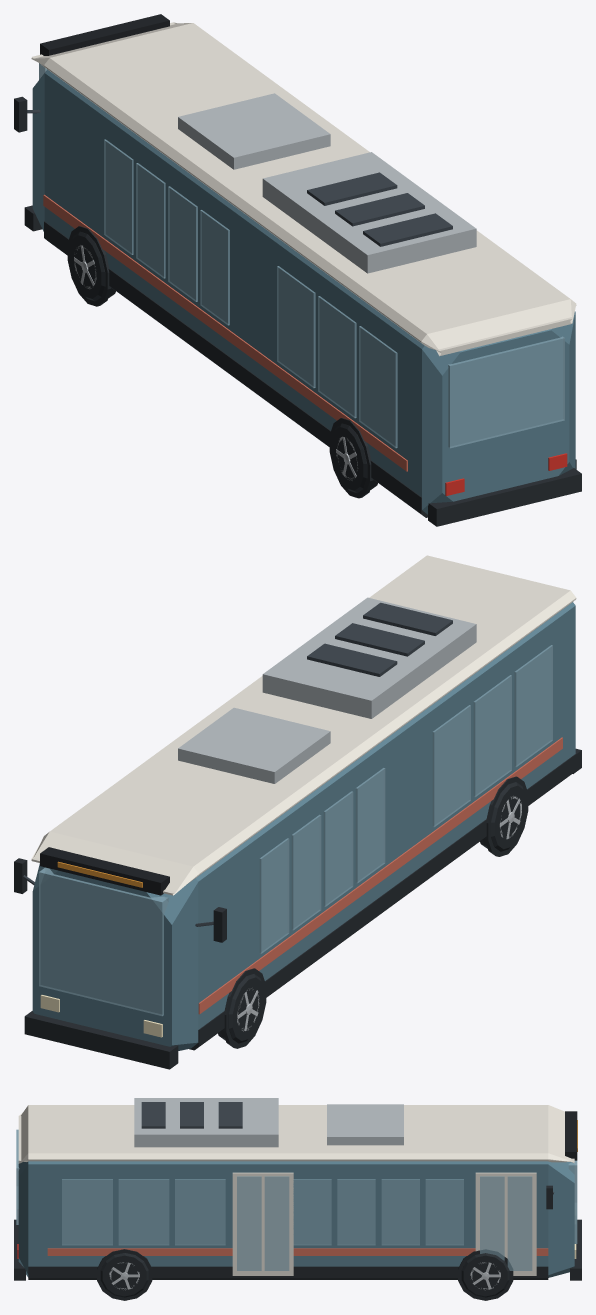
File: LAND_01.obj
3 views of the same model, one above another, from view 1: azimuth 30°, elevation 25°; view 2: azimuth 150°, elevation 25°; view 3: azimuth 270°, elevation 25° (orthographic). The views are drawn at different scales.
Visible parts, largest first — view 1: body, roof, windows, roof_equipment, skirt, trim, bumpers, wheel_R_L, wheel_F_L, display, wheel_F_L_arch, wheel_R_L_arch; view 2: body, roof, windows, roof_equipment, skirt, trim, bumpers, display, wheel_F_L, wheel_R_L, mirrors, wheel_F_L_arch (+1 smaller); view 3: body, roof, windows, doors, roof_equipment, skirt, trim, wheel_R_R, wheel_F_R, bumpers, wheel_R_R_arch, wheel_F_R_arch (+1 smaller).
Boxes of the visible parts, left/top/right/bottom form: body: left=32, top=69, right=575, bottom=514; roof: left=31, top=22, right=576, bottom=356; windows: left=39, top=63, right=564, bottom=448; roof_equipment: left=178, top=93, right=476, bottom=273; skirt: left=44, top=221, right=576, bottom=517; trim: left=43, top=194, right=407, bottom=471; bumpers: left=24, top=205, right=581, bottom=526; wheel_R_L: left=331, top=423, right=377, bottom=493; wheel_F_L: left=69, top=231, right=115, bottom=301; display: left=40, top=14, right=169, bottom=55; wheel_F_L_arch: left=67, top=226, right=111, bottom=306; wheel_R_L_arch: left=329, top=418, right=373, bottom=498; body: left=32, top=602, right=575, bottom=1050; roof: left=31, top=555, right=576, bottom=895; windows: left=39, top=645, right=552, bottom=1016; roof_equipment: left=178, top=597, right=476, bottom=783; skirt: left=189, top=754, right=576, bottom=1050; trim: left=198, top=737, right=562, bottom=1014; bumpers: left=24, top=748, right=581, bottom=1069; display: left=40, top=847, right=169, bottom=895; wheel_F_L: left=218, top=974, right=264, bottom=1043; wheel_R_L: left=480, top=782, right=526, bottom=851; mirrors: left=14, top=858, right=226, bottom=942; wheel_F_L_arch: left=222, top=968, right=266, bottom=1048; body: left=18, top=1161, right=574, bottom=1277; roof: left=18, top=1105, right=574, bottom=1163; windows: left=16, top=1129, right=577, bottom=1245; doors: left=232, top=1172, right=536, bottom=1275; roof_equipment: left=134, top=1098, right=403, bottom=1147; skirt: left=28, top=1266, right=548, bottom=1279; trim: left=47, top=1248, right=548, bottom=1255; wheel_R_R: left=100, top=1253, right=148, bottom=1297; wheel_F_R: left=461, top=1253, right=509, bottom=1297; bumpers: left=14, top=1219, right=581, bottom=1280; wheel_R_R_arch: left=97, top=1249, right=152, bottom=1300; wheel_F_R_arch: left=458, top=1249, right=513, bottom=1300.
Size of the model in its own units: 3.44 by 3.67 by 11.8.
